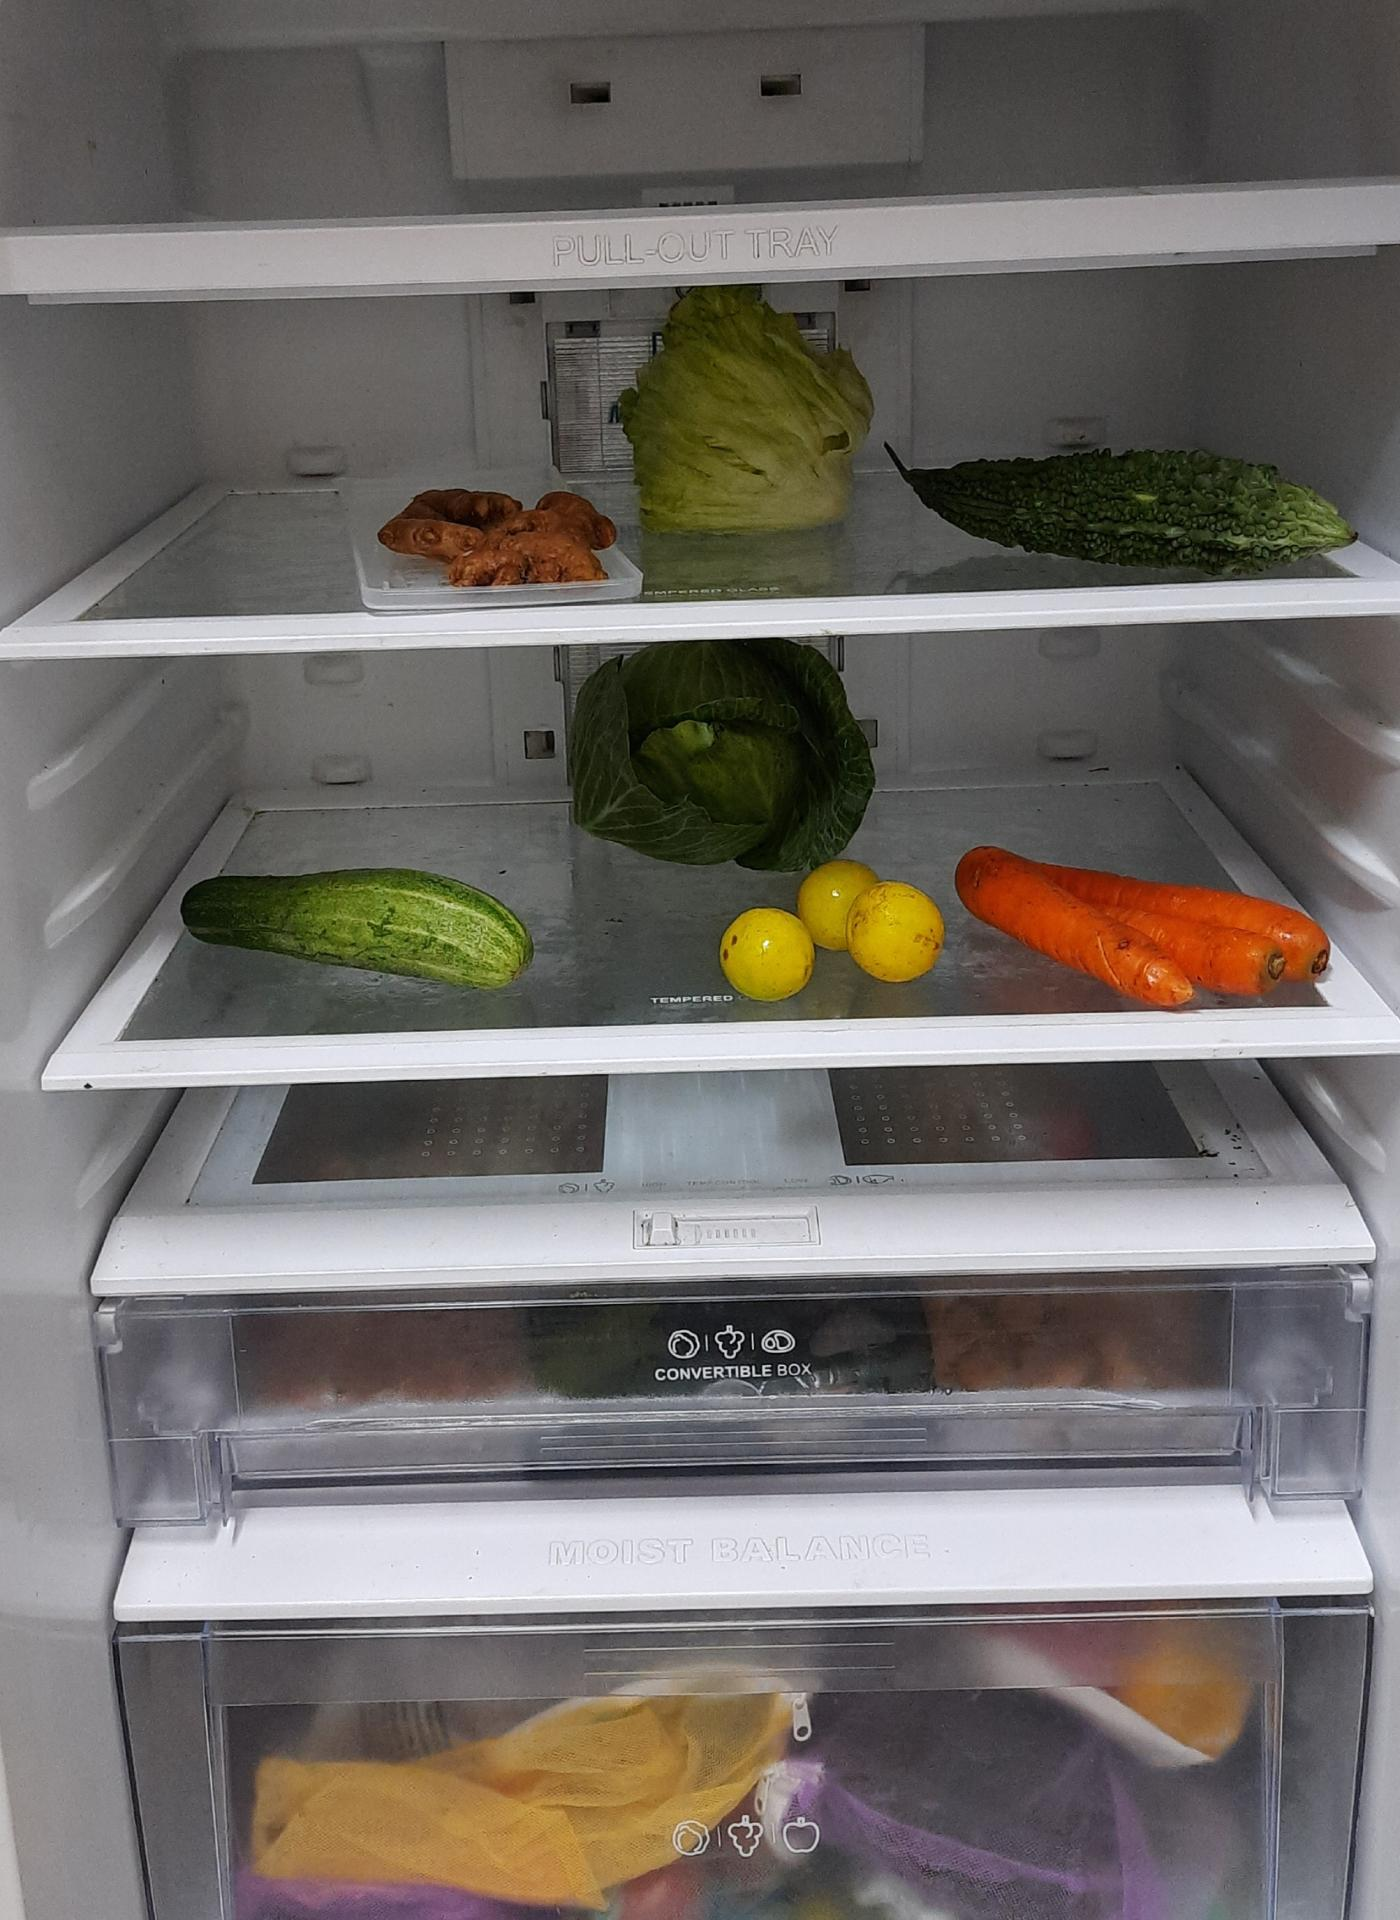bitter gourd: (892, 444, 1352, 568)
cabbage: (573, 638, 883, 871)
carrots: (954, 839, 1336, 1000)
cucumber: (179, 871, 544, 996)
ginger: (382, 486, 625, 590)
lemon: (798, 860, 948, 985), (719, 905, 817, 1000)
lettuce: (616, 292, 865, 543)
